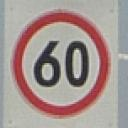speed_limit_60: (12, 11, 108, 115)
